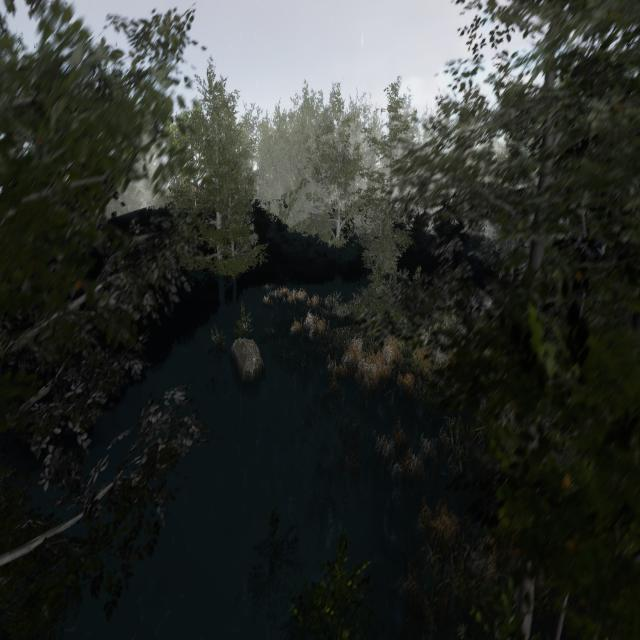Human: (304, 318, 318, 363)
